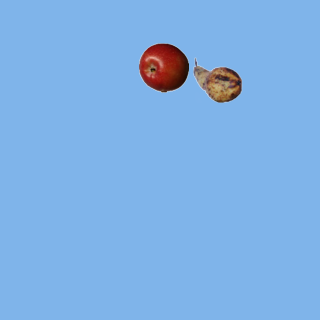Apple Braeburn: (138, 42, 188, 92)
Pear Abate: (192, 55, 242, 105)
